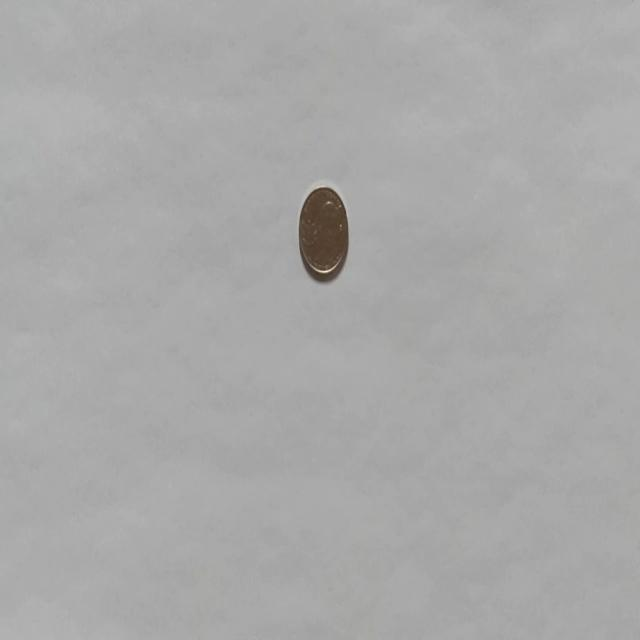seribu rupiah koin: (297, 183, 349, 280)
